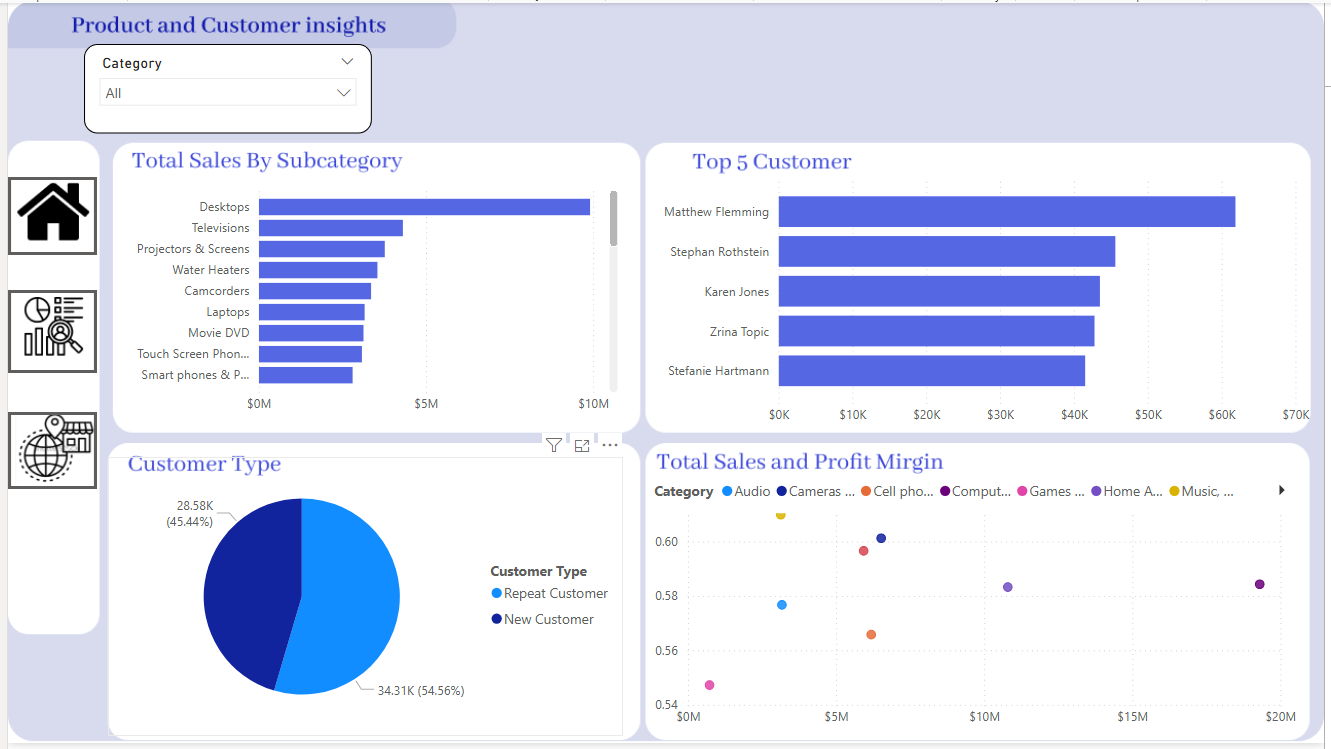

The page's visual inventory and layout, read from the dashboard file:
{"tool":"powerbi","page":{"name":"Page 2","canvas":[1280,720],"ordinal":1},"visuals":[{"type":"clusteredBarChart","fields":{"Y":["Customers.Total Sales"],"Category":["Products.Subcategory"]},"box":[108.9,169.2,489.2,238.3],"z":0},{"type":"slicer","fields":{"Values":["Products.Category"]},"box":[73.9,39.9,280.1,86.6],"z":1000},{"type":"barChart","fields":{"Y":["Customers.Total Sales"],"Category":["Customers.Name"]},"box":[623.5,159.5,647.8,258.7],"z":2000},{"type":"pieChart","fields":{"Category":["Sales.Customer Type"],"Y":["CountNonNull(Sales.CustomerKey)"]},"box":[97.3,441.6,500.9,271.4],"z":3000},{"type":"scatterChart","fields":{"X":["Customers.Total Sales"],"Y":["Customers.Profit Margin %"],"Series":["Products.Category"]},"box":[623.5,454.2,635.1,258.7],"z":4000},{"type":"actionButton","box":[0,397.8,86.6,74.9],"z":5000},{"type":"actionButton","box":[0,279.1,86.6,80.7],"z":6000},{"type":"actionButton","box":[0,169.2,86.6,75.9],"z":7000}]}

Visuals, with their boxes in screenshot pixels (x1, y1, x2, y2), scaled from the page's 1280x720 canvas onto the 1331x749 screenshot:
clusteredBarChart - Customers.Total Sales x Products.Subcategory: 113, 176, 622, 424
slicer - Products.Category: 77, 42, 368, 132
barChart - Customers.Total Sales x Customers.Name: 648, 166, 1322, 435
pieChart - Sales.Customer Type x CountNonNull(Sales.CustomerKey): 101, 459, 622, 742
scatterChart - Customers.Total Sales x Customers.Profit Margin %: 648, 472, 1309, 742
actionButton: 0, 414, 90, 492
actionButton: 0, 290, 90, 374
actionButton: 0, 176, 90, 255
